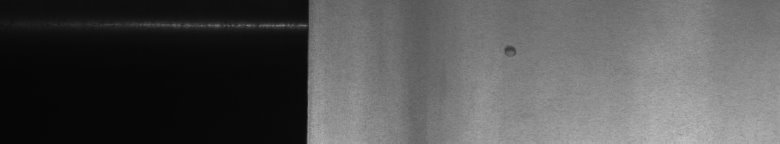fi: (500, 39, 519, 60)
